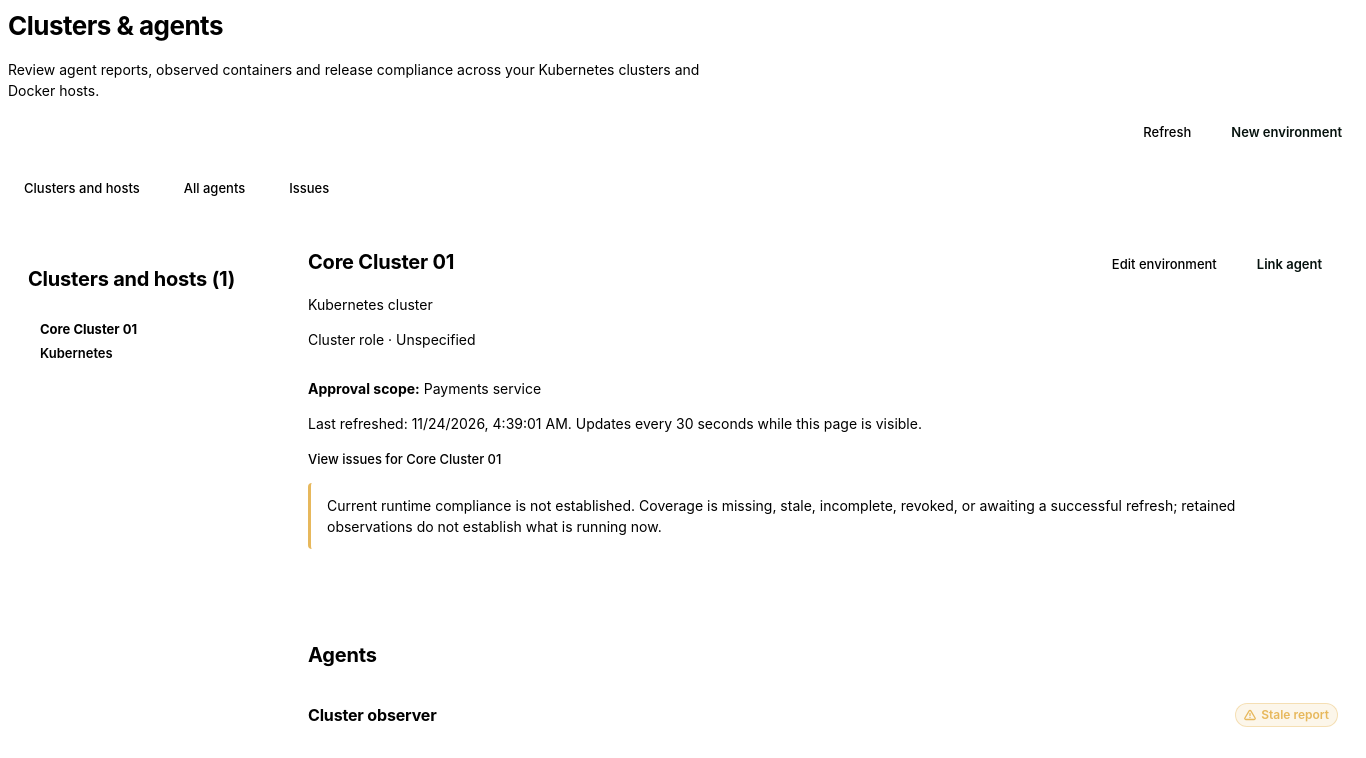
Test: does not present retained denials as confirmed when reporting is stale
Expected: the button "Link agent" is shown, [1241,247,1338,283]
Click the button "Issues" at {"x": 309, "y": 189}, box [273,171,345,207]
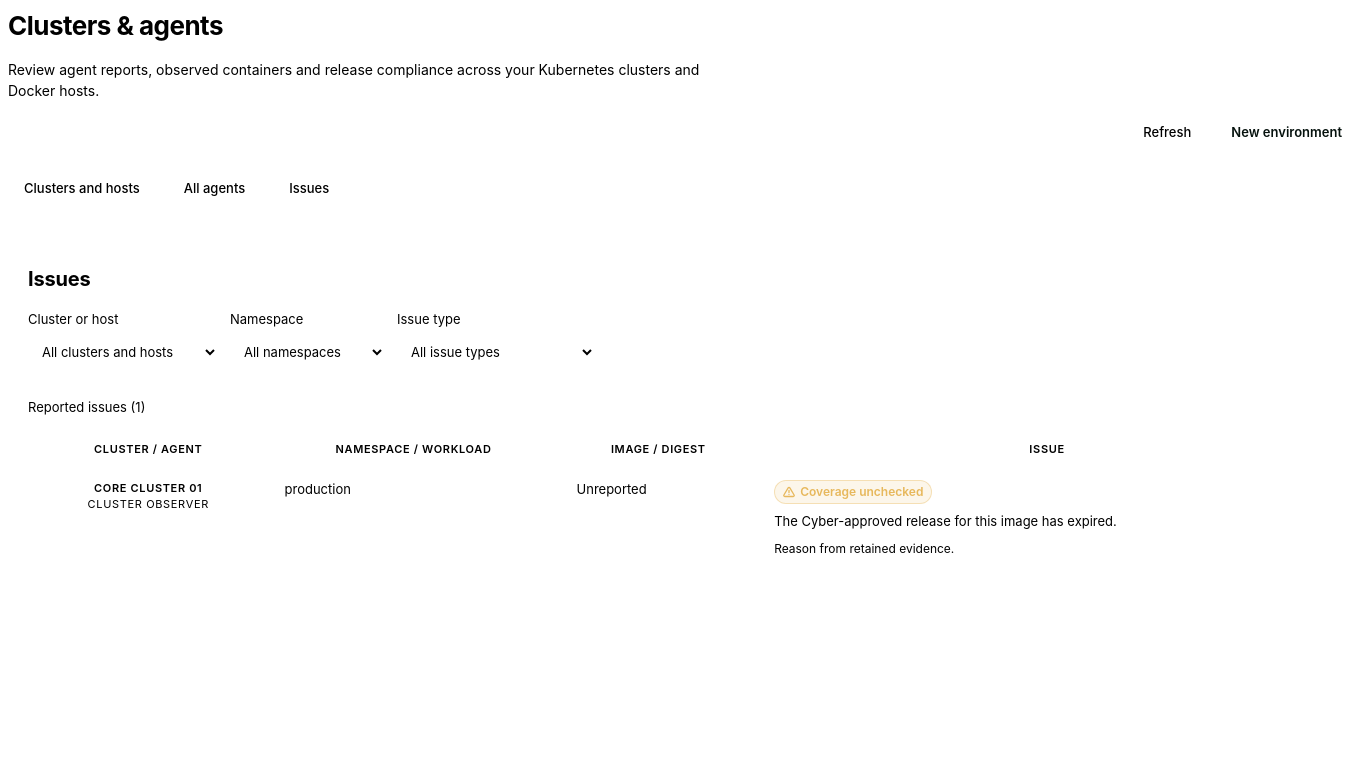
Expected: the text "Reason from retained evidence." is shown, [774,541,954,556]
